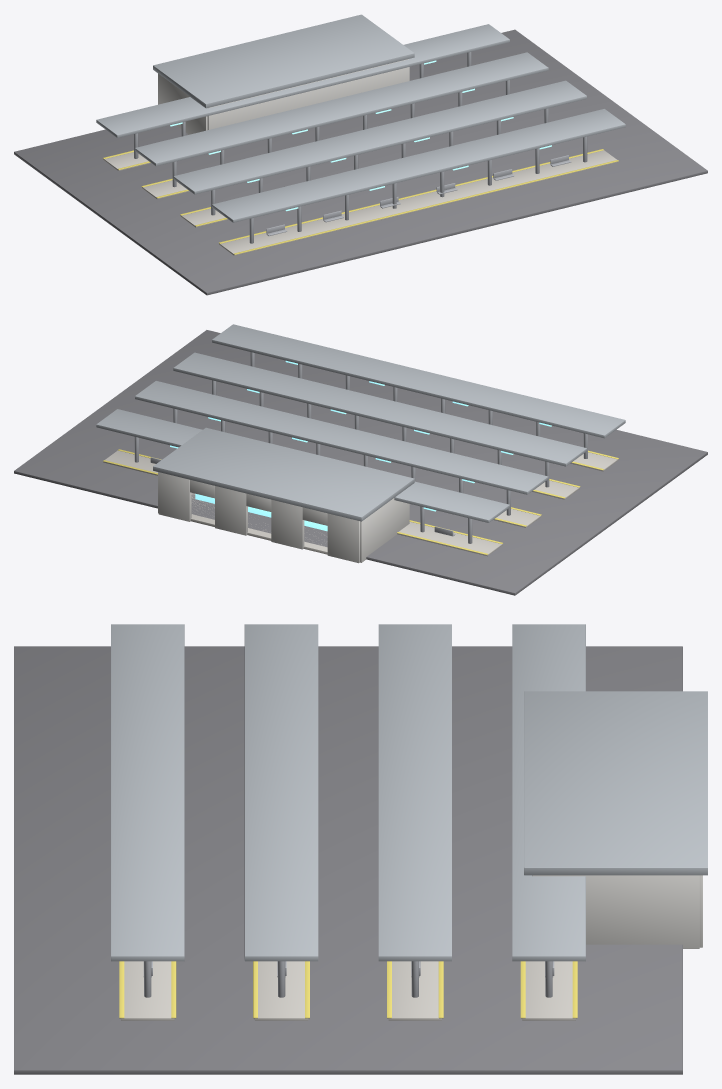
Rendered from th20_busbahnhof.glb.
3 renders of one model, top to bottom at view 1: azimuth 30°, elevation 25°; view 2: azimuth 150°, elevation 25°; view 3: azimuth 270°, elevation 25°, orthographic. The views are drawn at different scales.
Visible parts, largest first — view 1: Cube, Cube.094, Cube.024, Cube.044, Cube.004, Cube.064, Cube.001, Cube.089, Cube.002, Cube.090, Cube.003, Cube.061 (+2 smaller); view 2: Cube, Cube.094, Cube.004, Cube.044, Cube.024, Cube.064, Cube.061, Cube.090, Cube.085, Cube.083, Cube.082, Cube.084 (+4 smaller); view 3: Cube, Cube.094, Cube.024, Cube.004, Cube.044, Cube.064, Cube.092, Cube.061, Cube.001, Cube.021, Cube.041.
Boxes of the visible parts, bbox=[...] form: Cube: bbox=[14, 29, 707, 295]; Cube.094: bbox=[153, 14, 414, 108]; Cube.024: bbox=[173, 80, 586, 194]; Cube.044: bbox=[135, 52, 548, 166]; Cube.004: bbox=[212, 109, 625, 222]; Cube.064: bbox=[96, 24, 509, 137]; Cube.001: bbox=[219, 150, 618, 255]; Cube.089: bbox=[207, 59, 408, 129]; Cube.002: bbox=[234, 160, 618, 254]; Cube.090: bbox=[158, 73, 207, 134]; Cube.003: bbox=[219, 149, 603, 243]; Cube.061: bbox=[103, 152, 151, 170]; Cube: bbox=[14, 330, 707, 595]; Cube.094: bbox=[153, 427, 414, 521]; Cube.004: bbox=[212, 324, 625, 438]; Cube.044: bbox=[135, 381, 548, 494]; Cube.024: bbox=[173, 352, 586, 466]; Cube.064: bbox=[96, 409, 509, 522]; Cube.061: bbox=[103, 450, 502, 556]; Cube.090: bbox=[360, 498, 409, 562]; Cube.085: bbox=[158, 472, 191, 521]; Cube.083: bbox=[271, 499, 304, 549]; Cube.082: bbox=[327, 513, 359, 563]; Cube.084: bbox=[215, 486, 247, 535]; Cube: bbox=[14, 646, 682, 1074]; Cube.094: bbox=[524, 691, 707, 875]; Cube.024: bbox=[244, 624, 318, 961]; Cube.004: bbox=[111, 624, 184, 961]; Cube.044: bbox=[378, 624, 451, 961]; Cube.064: bbox=[512, 624, 585, 961]; Cube.092: bbox=[532, 875, 699, 948]; Cube.061: bbox=[522, 961, 575, 1020]; Cube.001: bbox=[121, 961, 174, 1020]; Cube.021: bbox=[254, 961, 308, 1020]; Cube.041: bbox=[388, 961, 441, 1020].
Size of the model in its own units: 60 by 5.5 by 41.5.
